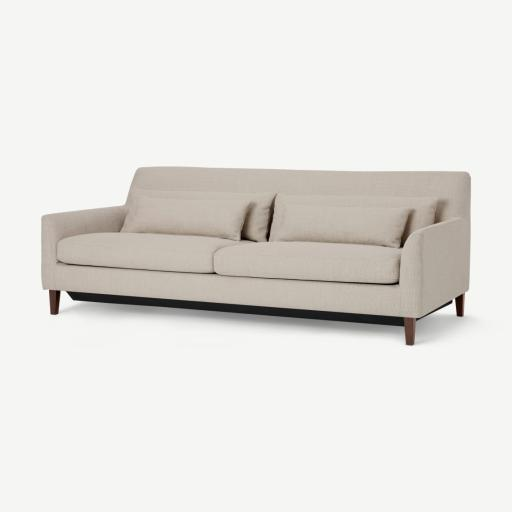back_cushion: (109, 182, 468, 242)
base: (45, 267, 427, 310)
left_arm: (409, 210, 470, 307)
legs: (400, 308, 413, 331), (59, 287, 69, 307), (448, 297, 456, 307), (243, 299, 249, 310)
right_arm: (59, 221, 107, 243)
seat_cushion: (42, 238, 429, 287)
two-seater: (0, 0, 511, 512)
